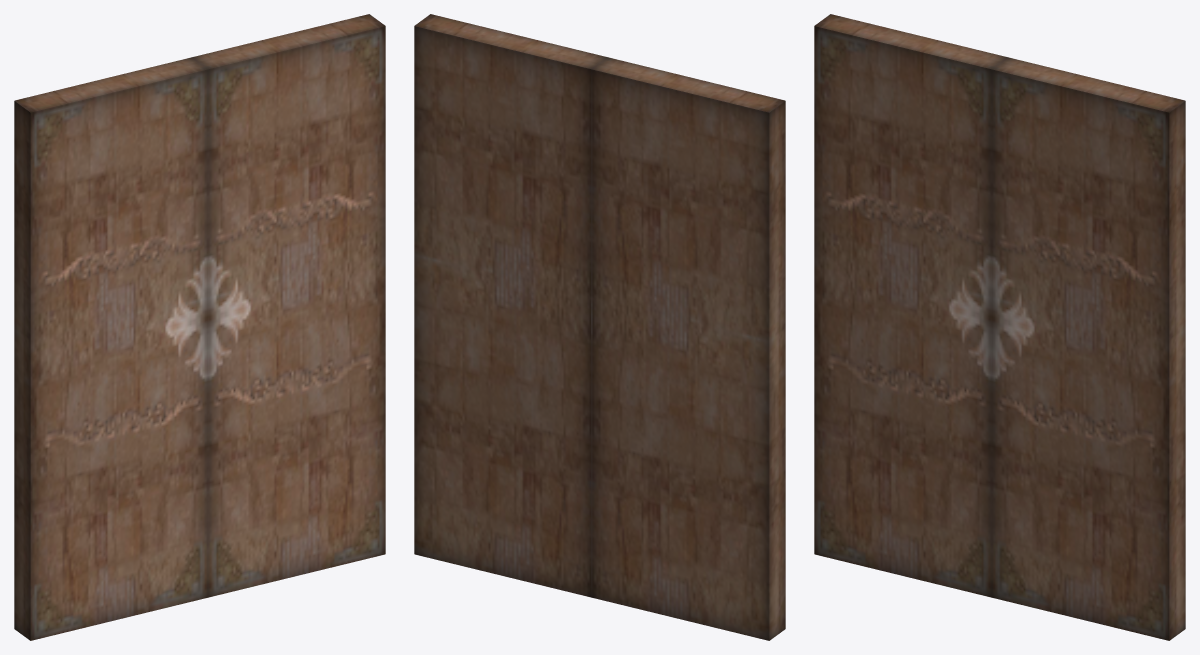
The model's file is Ancient Door_updated.fbx.
3 views of the same model, side by side, from view 1: azimuth 30°, elevation 25°; view 2: azimuth 150°, elevation 25°; view 3: azimuth 330°, elevation 25° (orthographic).
Parts seen in each view (by area): view 1: door left, door right; view 2: door left, door right; view 3: door right, door left.
Part boxes in pixels (x1,y1,x2,y2): door left: [14, 57, 208, 640]; door right: [192, 14, 385, 597]; door left: [591, 57, 785, 640]; door right: [414, 14, 607, 597]; door right: [991, 57, 1185, 640]; door left: [814, 14, 1007, 597].
Size of the model in its own units: 5.56 by 7.9 by 0.4453.
